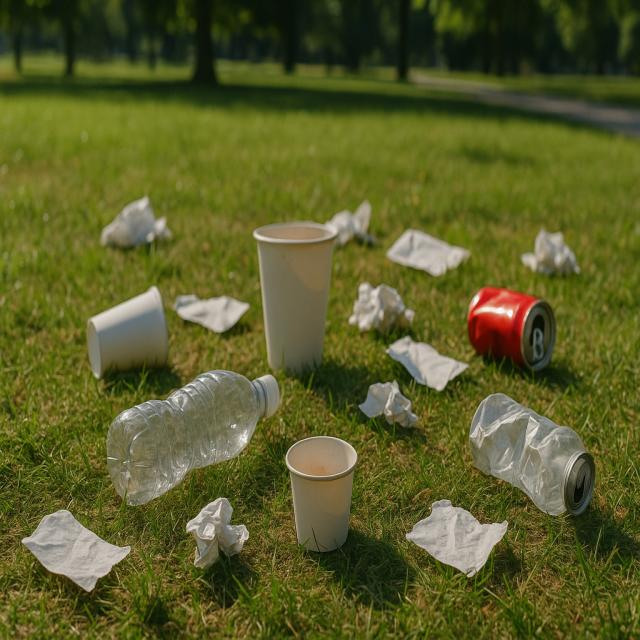aluminum: (466, 286, 560, 374)
paper: (248, 218, 339, 371), (22, 505, 133, 591), (286, 434, 358, 555), (90, 286, 172, 379), (187, 496, 250, 572), (360, 373, 422, 437), (96, 200, 175, 250)
plastic: (106, 368, 281, 506)
